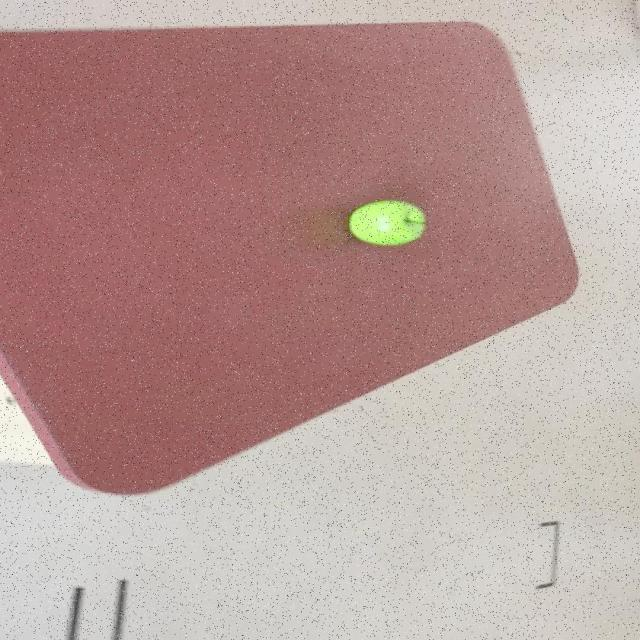Apple: (348, 199, 426, 245)
